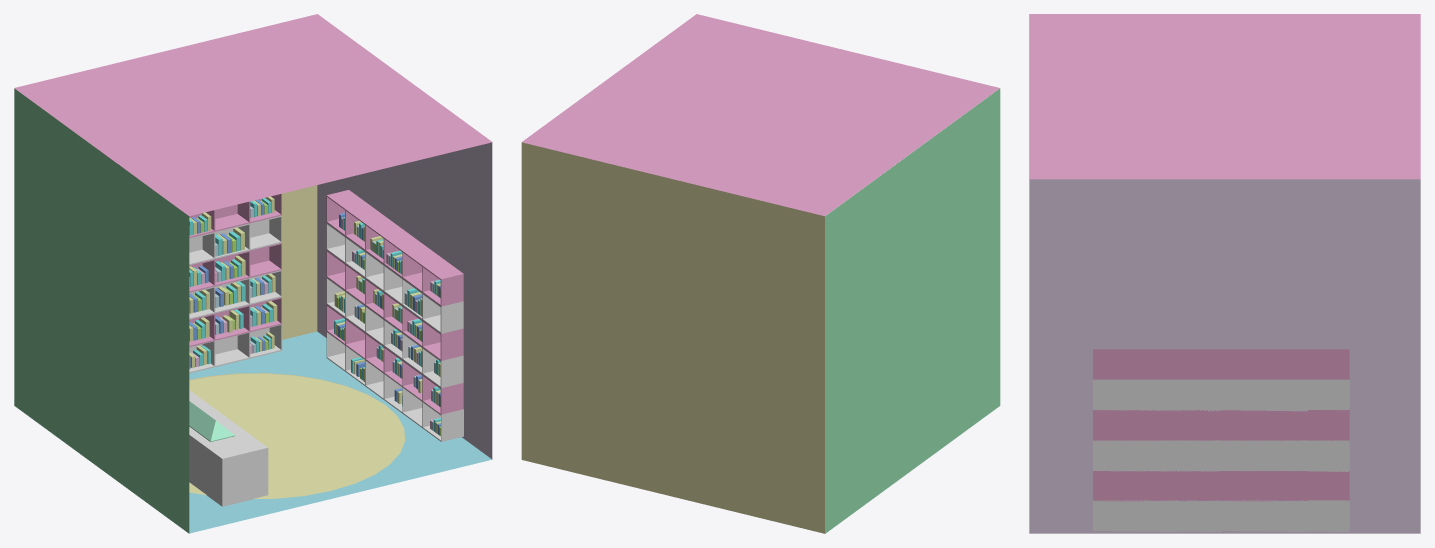
File: library.fbx
3 renders of one model, left to right at view 1: azimuth 30°, elevation 25°; view 2: azimuth 150°, elevation 25°; view 3: azimuth 270°, elevation 25°, orthographic. The views are drawn at different scales.
Parts seen in each view (by area): view 1: Plane.003, Plane.004, Plane.002, Cylinder, Plane, Cube.200, Plane.001, Cube.397, Cube.027, Cube.405, Cube.009, Cube.010 (+29 smaller); view 2: Plane.001, Plane.003, Plane.004; view 3: Plane.002, Plane.004, Cube.404, Cube.395, Cube.388, Cube.401, Cube.383, Cube.402, Cube.389, Cube.405, Cube.394, Cube.403 (+14 smaller).
Part boxes in pixels (x1,y1,x2,y2): Plane.003: (14, 88, 189, 533); Plane.004: (14, 14, 492, 215); Plane.002: (317, 142, 492, 459); Cylinder: (189, 373, 405, 498); Plane: (189, 331, 492, 533); Cube.200: (189, 390, 268, 506); Plane.001: (16, 89, 317, 339); Cube.397: (402, 245, 463, 306); Cube.027: (202, 323, 282, 367); Cube.405: (345, 203, 405, 264); Cube.009: (202, 243, 281, 285); Cube.010: (202, 215, 281, 258); Plane.001: (521, 142, 824, 533); Plane.003: (825, 88, 1000, 533); Plane.004: (522, 14, 999, 216); Plane.002: (1029, 179, 1420, 533); Plane.004: (1029, 14, 1420, 179); Cube.404: (1220, 379, 1307, 411); Cube.395: (1093, 440, 1180, 471); Cube.388: (1220, 500, 1307, 531); Cube.401: (1134, 379, 1221, 411); Cube.383: (1134, 500, 1221, 531); Cube.402: (1134, 410, 1221, 440); Cube.389: (1220, 440, 1307, 471); Cube.405: (1220, 349, 1307, 379); Cube.394: (1093, 471, 1180, 501); Cube.403: (1220, 410, 1307, 440).
Bounding box in the file's own units: 1021 × 1021 × 1021.
